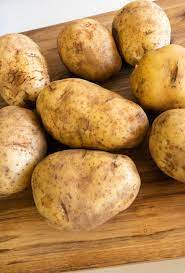potato: (37, 146, 143, 228), (41, 74, 146, 151), (49, 13, 121, 78), (1, 31, 52, 110), (111, 0, 178, 58), (136, 41, 185, 108), (151, 101, 185, 169)
